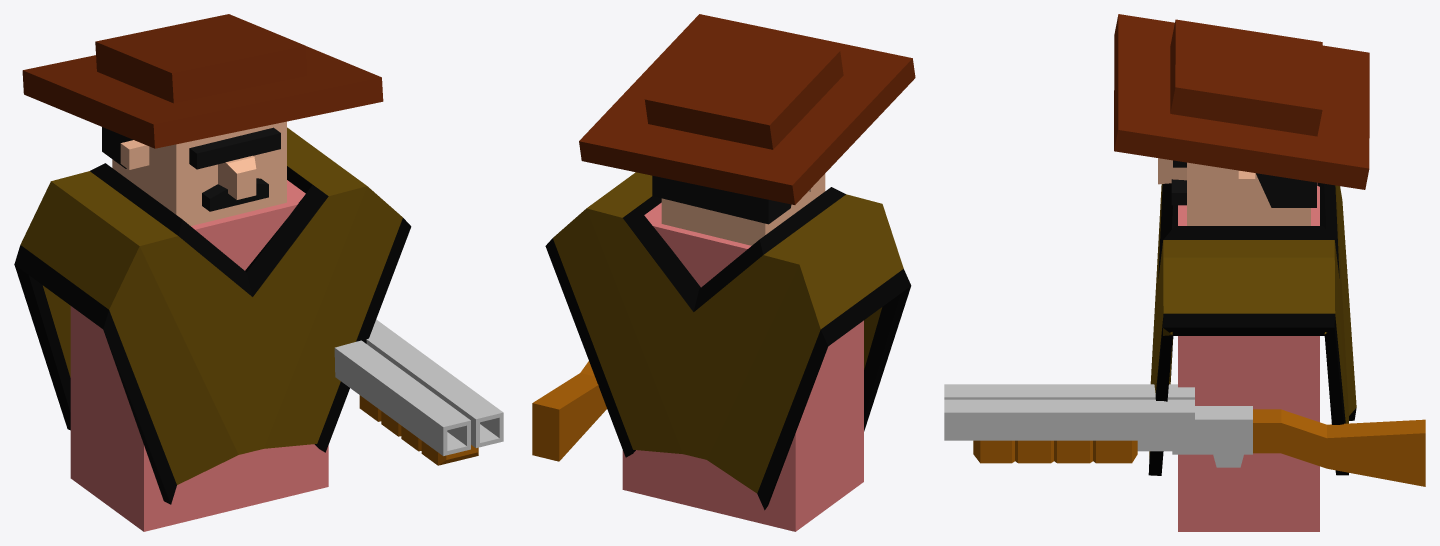
Rendered from player.glb.
3 views of the same model, side by side, from view 1: azimuth 30°, elevation 25°; view 2: azimuth 150°, elevation 25°; view 3: azimuth 270°, elevation 25° (orthographic). The views are drawn at different scales.
Visible parts, largest first — view 1: poncho, hat, body, gun, head.001, eyebrow, nose, mustache, eyebrow.001, pelo; view 2: poncho, hat, body, gun, head.001, pelo; view 3: hat, gun, poncho, body, head.001, pelo, nose.
Part boxes in pixels (<box>): poncho: <box>14,127,411,504</box>; hat: <box>22,14,383,148</box>; body: <box>70,180,328,531</box>; gun: <box>334,319,503,465</box>; head.001: <box>112,121,286,225</box>; eyebrow: <box>189,127,280,169</box>; nose: <box>218,155,256,199</box>; mustache: <box>202,178,268,211</box>; eyebrow.001: <box>120,140,149,169</box>; pelo: <box>102,127,132,168</box>; poncho: <box>545,172,911,510</box>; hat: <box>579,14,915,204</box>; body: <box>622,202,863,531</box>; gun: <box>532,361,606,461</box>; head.001: <box>661,174,825,245</box>; pelo: <box>652,175,791,224</box>; hat: <box>1114,14,1369,189</box>; gun: <box>944,384,1425,486</box>; poncho: <box>1148,182,1356,475</box>; body: <box>1178,183,1319,531</box>; head.001: <box>1187,162,1310,225</box>; pelo: <box>1256,173,1316,207</box>; nose: <box>1158,158,1186,184</box>.
Bounding box in the file's own units: 1.32 × 1.88 × 1.87.
